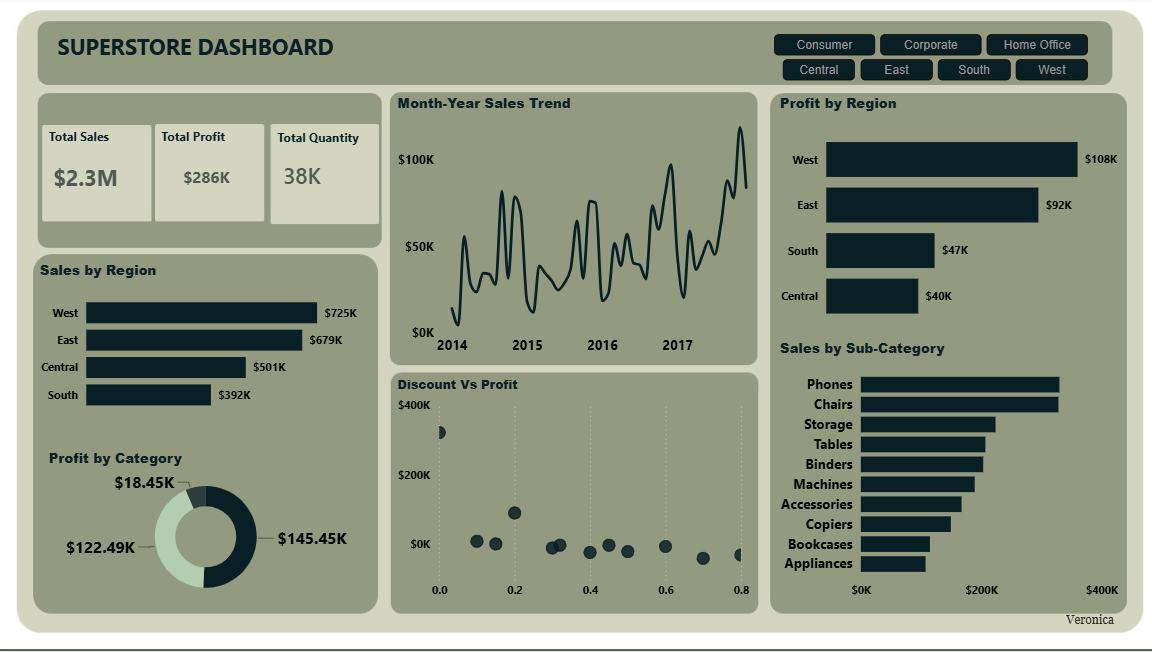

This screenshot's page, from the dashboard's own definition file:
{"tool":"powerbi","page":{"name":"Page 1","canvas":[1280,720],"ordinal":0},"visuals":[{"type":"cardVisual","title":"Total Sales","fields":{"Data":["Sum(Sample - Superstore.Sales)"]},"box":[31.6,155.1,142.7,85.1],"z":0},{"type":"cardVisual","fields":{"Data":["Sum(Sample - Superstore.Profit)"]},"box":[174.3,131.7,127.6,127.6],"z":1000},{"type":"cardVisual","fields":{"Data":["Sum(Sample - Superstore.Quantity)"]},"box":[284,120.8,149.6,149.6],"z":2000},{"type":"barChart","title":"Sales by Region","fields":{"Category":["Sample - Superstore.Region"],"Y":["Sum(Sample - Superstore.Sales)"]},"box":[41.2,289.8,358.5,177.2],"z":3000},{"type":"donutChart","title":"Profit by Category","fields":{"Category":["Sample - Superstore.Category"],"Y":["Sum(Sample - Superstore.Profit)"]},"box":[50.8,495.4,355.4,174.3],"z":4000},{"type":"lineChart","title":"Month-Year Sales Trend","fields":{"Category":["Sample - Superstore.Order Date.Variation.Date Hierarchy.Year","Sample - Superstore.Order Date.Variation.Date Hierarchy.Month"],"Y":["Sum(Sample - Superstore.Sales)"]},"box":[433.6,105.7,410.3,297.8],"z":5000},{"type":"clusteredBarChart","title":" Sales by Sub-Category","fields":{"Category":["Sample - Superstore.Sub-Category"],"Y":["Sum(Sample - Superstore.Sales)"]},"box":[854.9,374.6,381.5,295],"z":6000},{"type":"scatterChart","title":"Discount Vs Profit","fields":{"X":["Sample - Superstore.Discount"],"Y":["Sum(Sample - Superstore.Profit)"]},"box":[433.6,415.8,396.6,253.9],"z":7000},{"type":"barChart","title":"Profit by Region","fields":{"Y":["Sum(Sample - Superstore.Profit)"],"Category":["Sample - Superstore.Region"]},"box":[855,106,381,269],"z":7001},{"type":"textbox","box":[50.8,138.7,123.6,38.5],"z":7002},{"type":"textbox","box":[174.5,138.7,109.9,38.5],"z":7003},{"type":"textbox","box":[302.2,140.1,115.4,31.6],"z":7004},{"type":"textbox","box":[60.4,33,373.6,54.9],"z":7005},{"type":"ChicletSlicer1448559807354","fields":{"Category":["Sample - Superstore.Segment"]},"box":[844.8,33,361.3,53.6],"z":7006},{"type":"ChicletSlicer1448559807354","fields":{"Category":["Sample - Superstore.Region"]},"box":[854.4,60.4,351.7,45.3],"z":7007},{"type":"textbox","box":[1169,670.4,74.2,31.6],"z":7008}]}

Visuals, with their boxes in screenshot pixels (x1, y1, x2, y2), scaled from the page's 1280x720 canvas onto the 1152x652 screenshot:
"Total Sales" cardVisual: <bbox>28, 140, 157, 218</bbox>
cardVisual - Sum(Sample - Superstore.Profit): <bbox>157, 119, 272, 235</bbox>
cardVisual - Sum(Sample - Superstore.Quantity): <bbox>256, 109, 390, 245</bbox>
"Sales by Region" barChart: <bbox>37, 262, 360, 423</bbox>
"Profit by Category" donutChart: <bbox>46, 449, 366, 606</bbox>
"Month-Year Sales Trend" lineChart: <bbox>390, 96, 760, 365</bbox>
" Sales by Sub-Category" clusteredBarChart: <bbox>769, 339, 1113, 606</bbox>
"Discount Vs Profit" scatterChart: <bbox>390, 377, 747, 606</bbox>
"Profit by Region" barChart: <bbox>770, 96, 1112, 340</bbox>
textbox: <bbox>46, 126, 157, 160</bbox>
textbox: <bbox>157, 126, 256, 160</bbox>
textbox: <bbox>272, 127, 376, 155</bbox>
textbox: <bbox>54, 30, 391, 80</bbox>
ChicletSlicer1448559807354 - Sample - Superstore.Segment: <bbox>760, 30, 1085, 78</bbox>
ChicletSlicer1448559807354 - Sample - Superstore.Region: <bbox>769, 55, 1085, 96</bbox>
textbox: <bbox>1052, 607, 1119, 636</bbox>
